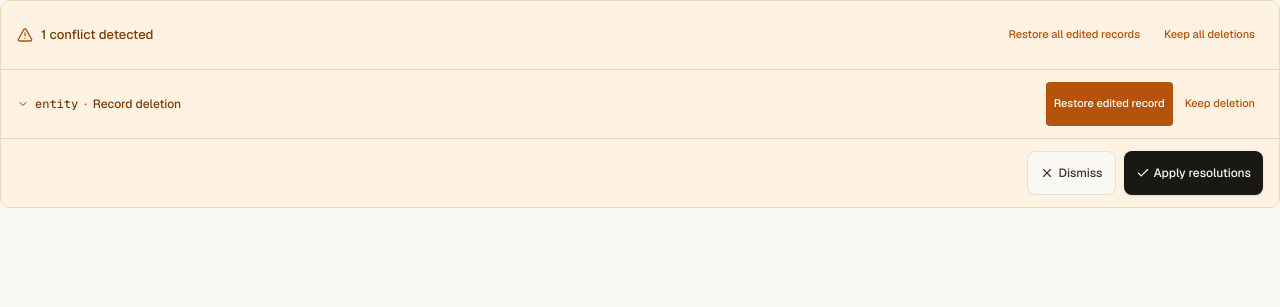
Test case: ConflictUI › explains deletion conflicts as a restore or keep-deletion choice
Expected: the text "Record deletion" is shown, [93,96,181,112]
Expected: the button "Restore edited record" is shown, [1046,82,1173,126]
Click the text "entity" at x=57, y=104, box [35,96,78,112]
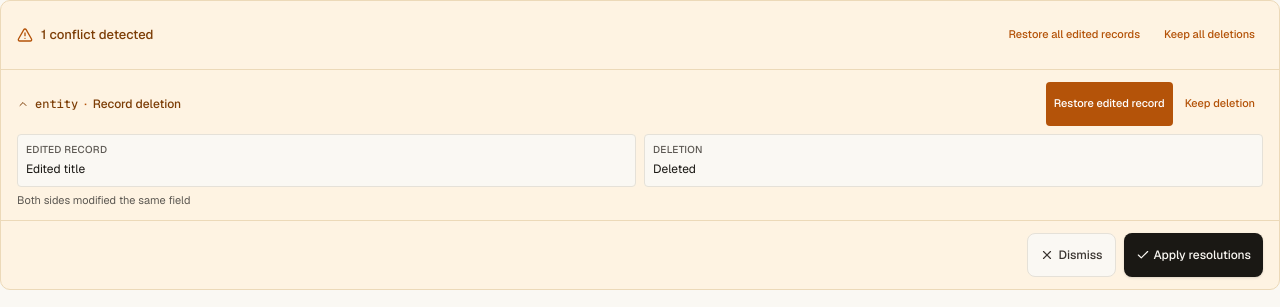
Expected: the text "Edited record" is shown, [26,143,107,156]
Expected: the text "Edited title" is shown, [26,161,85,177]
Expected: the text "Deletion" is shown, [653,143,703,156]
